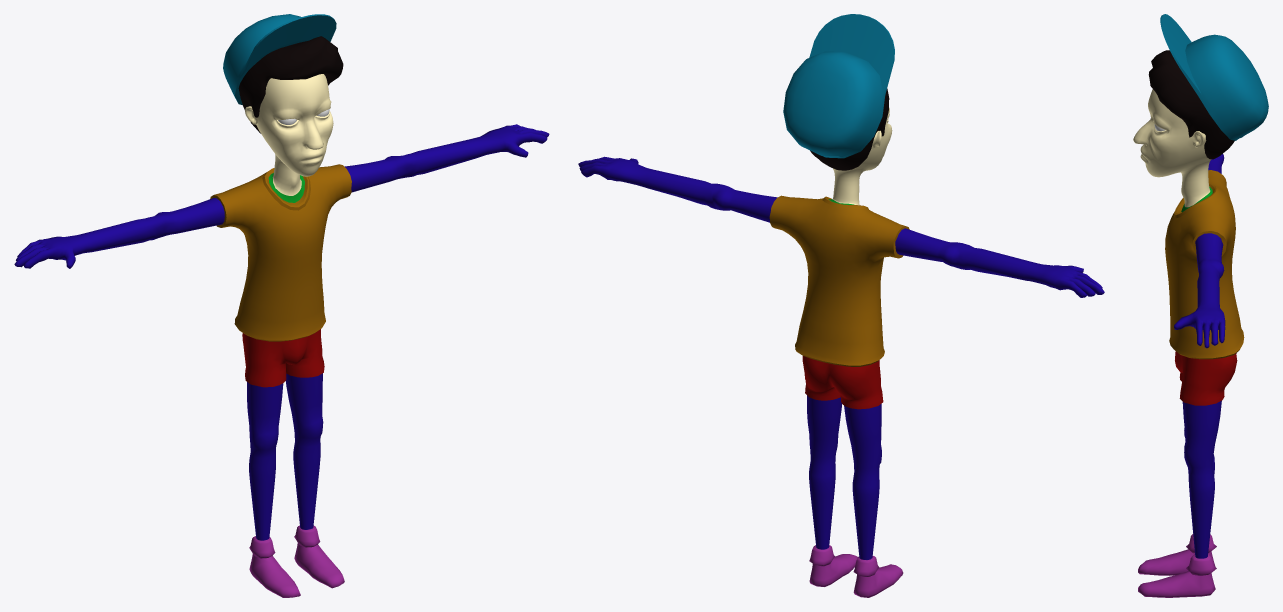
Rendered from Character_Eric.FBX.
The picture shows the model from 3 angles, left to right: view 1: azimuth 30°, elevation 25°; view 2: azimuth 150°, elevation 25°; view 3: azimuth 270°, elevation 25°; orthographic projection.
Parts seen in each view (by area): view 1: Object001; view 2: Object001; view 3: Object001.
Boxes of the visible parts, x1=… form: Object001: x1=14, y1=14, x2=549, y2=597; Object001: x1=578, y1=14, x2=1104, y2=597; Object001: x1=1133, y1=14, x2=1268, y2=597.
Bounding box in the file's own units: 2.01 × 2.03 × 0.4451.
